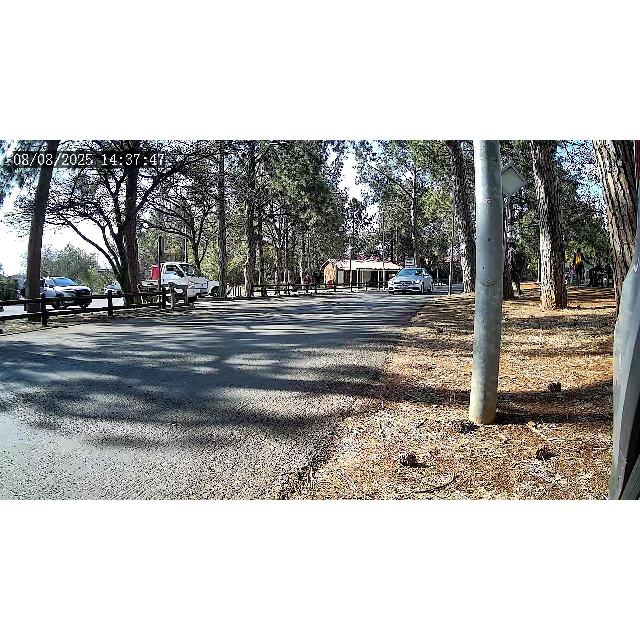car: (28, 277, 94, 309), (389, 268, 435, 294)
